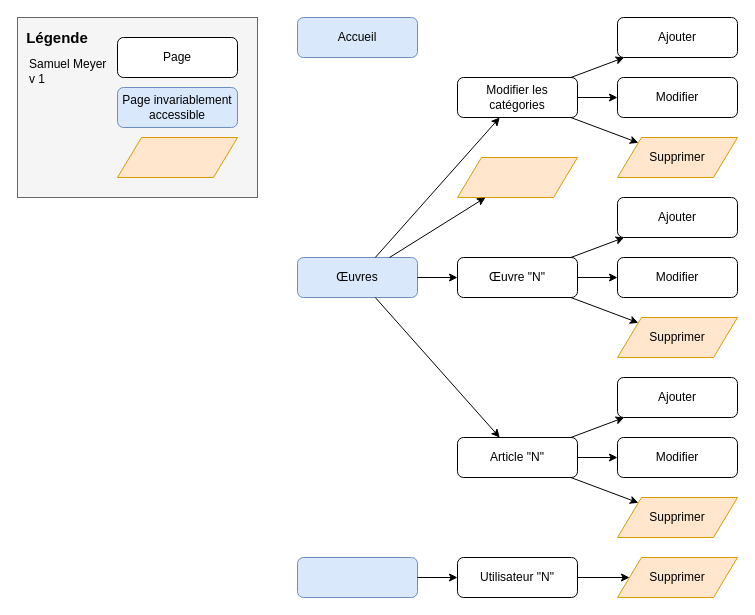
Some shapes in this 755 by 615 pixel diagram are drawn without their labels. Each missing label, with the centre of its shape:
"Fonctionnalité" belongs at [177,157].
"Rechercher" belongs at [517,177].
"Users" belongs at [357,577].
